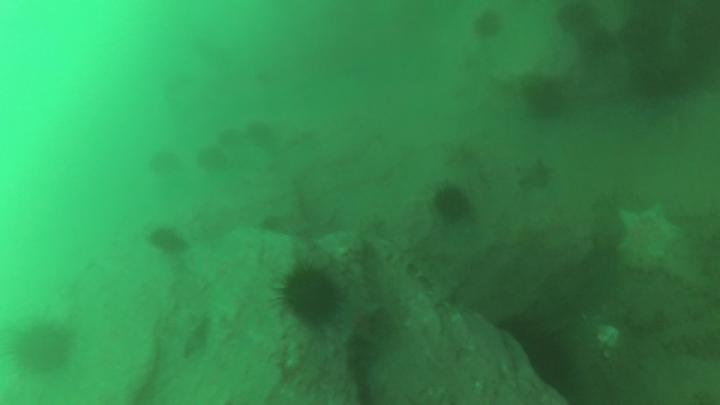echinus: (285, 271, 339, 321), (527, 80, 565, 118), (434, 187, 469, 218), (152, 230, 189, 255)
starfish: (620, 206, 686, 260), (340, 289, 378, 342), (518, 161, 553, 187)
